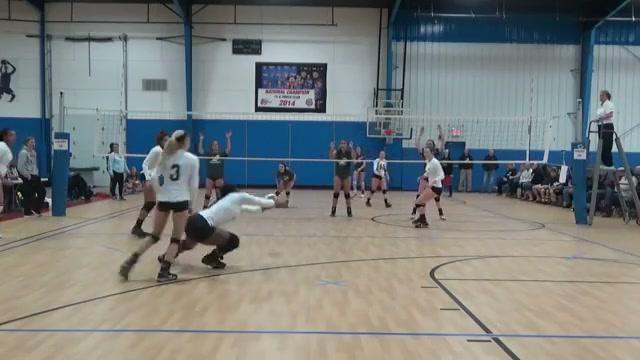ball: (266, 194, 280, 204)
